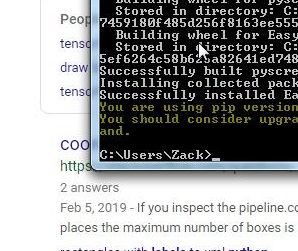cursor: (195, 40, 211, 61)
